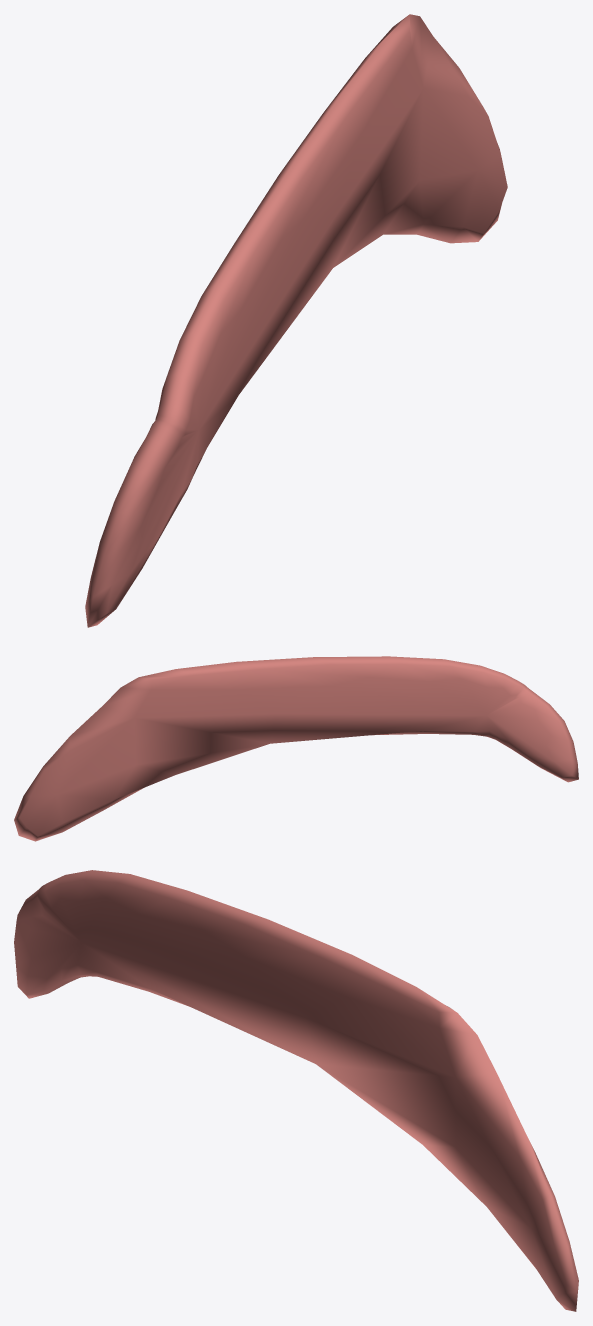
3 renders of one model, top to bottom at view 1: azimuth 30°, elevation 25°; view 2: azimuth 150°, elevation 25°; view 3: azimuth 270°, elevation 25°, orthographic. The views are drawn at different scales.
Visible parts, largest first — view 1: ZA_b98ac1e34987aa61; view 2: ZA_b98ac1e34987aa61; view 3: ZA_b98ac1e34987aa61.
Part boxes in pixels (x1,y1,x2,y2): ZA_b98ac1e34987aa61: [85, 14, 507, 627]; ZA_b98ac1e34987aa61: [14, 656, 578, 841]; ZA_b98ac1e34987aa61: [14, 870, 578, 1311].
Bounding box in the file's own units: 0.0124 × 0.00496 × 0.01.
